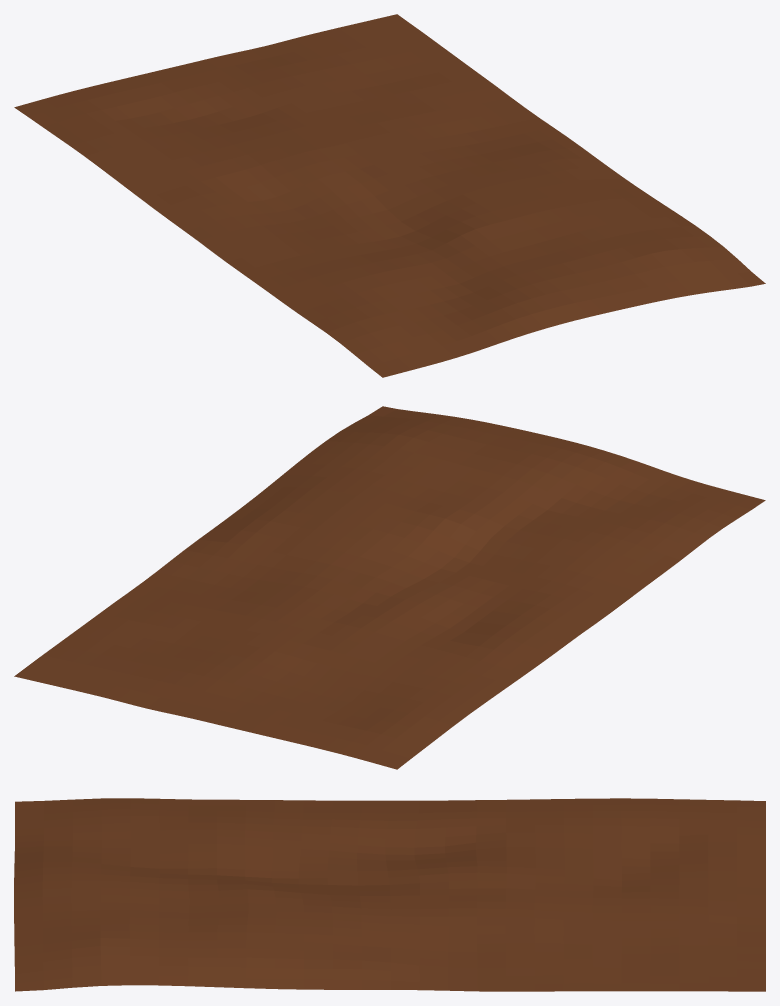
File: Ground_2.fbx
The picture shows the model from 3 angles, top to bottom: view 1: azimuth 30°, elevation 25°; view 2: azimuth 150°, elevation 25°; view 3: azimuth 270°, elevation 25°; orthographic projection.
Visible parts, largest first — view 1: Ground_2; view 2: Ground_2; view 3: Ground_2.
Boxes of the visible parts, left/top/right/bottom form: Ground_2: left=14, top=14, right=765, bottom=377; Ground_2: left=14, top=406, right=765, bottom=769; Ground_2: left=14, top=798, right=765, bottom=991.
Bounding box in the file's own units: 601 × 27.3 × 1002.
